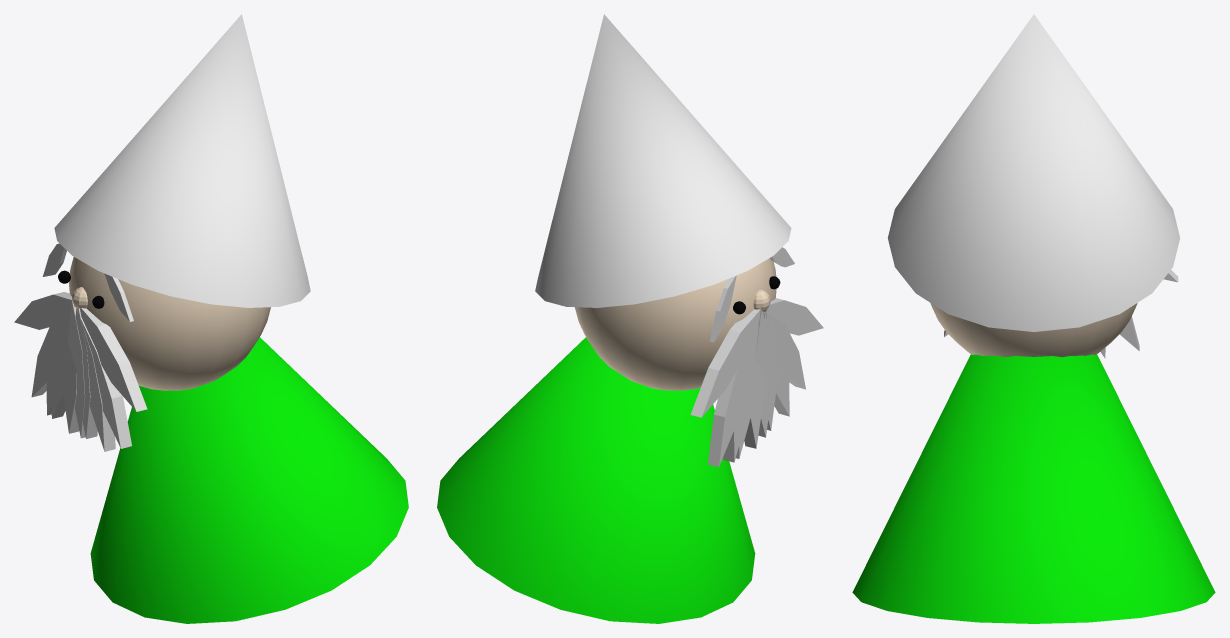
Rendered from greenwizardnpc.fbx.
The picture shows the model from 3 angles, left to right: view 1: azimuth 30°, elevation 25°; view 2: azimuth 150°, elevation 25°; view 3: azimuth 270°, elevation 25°; orthographic projection. The views are drawn at different scales.
Visible parts, largest first — view 1: pCone1, pCone2, pSphere1, pPlane1, pasted__pasted__pasted__pasted__pasted__pasted__pPlane1, pasted__pasted__pPlane1, pasted__pPlane1, pasted__pasted__pasted__pasted__pasted__pPlane2, pasted__pasted__pasted__pasted__pPlane2, pasted__pasted__pasted__pPlane1, pasted__pasted__pasted__pasted__pPlane1, pasted__pasted__pasted__pasted__pasted__pPlane1 (+1 smaller); view 2: pCone1, pCone2, pSphere1, pasted__pPlane1, pasted__pasted__pPlane1, pasted__pasted__pasted__pasted__pPlane2, pPlane1, pasted__pasted__pasted__pasted__pasted__pPlane2, pasted__pasted__pasted__pPlane1, pasted__pasted__pasted__pasted__pPlane1, pasted__pasted__pasted__pasted__pasted__pasted__pPlane1, pasted__pasted__pasted__pPlane2 (+2 smaller); view 3: pCone1, pCone2, pSphere1.
Boxes of the visible parts, x1=… form: pCone1: x1=90, y1=337, x2=408, y2=623; pCone2: x1=54, y1=14, x2=310, y2=307; pSphere1: x1=69, y1=257, x2=270, y2=390; pPlane1: x1=80, y1=308, x2=147, y2=411; pasted__pasted__pasted__pasted__pasted__pasted__pPlane1: x1=76, y1=308, x2=131, y2=448; pasted__pasted__pPlane1: x1=31, y1=308, x2=68, y2=397; pasted__pPlane1: x1=14, y1=292, x2=74, y2=329; pasted__pasted__pasted__pasted__pasted__pPlane2: x1=76, y1=308, x2=115, y2=451; pasted__pasted__pasted__pasted__pPlane2: x1=68, y1=301, x2=85, y2=438; pasted__pasted__pasted__pPlane1: x1=51, y1=304, x2=71, y2=418; pasted__pasted__pasted__pasted__pPlane1: x1=62, y1=330, x2=79, y2=433; pasted__pasted__pasted__pasted__pasted__pPlane1: x1=75, y1=308, x2=97, y2=438; pCone1: x1=437, y1=337, x2=755, y2=623; pCone2: x1=535, y1=14, x2=791, y2=307; pSphere1: x1=575, y1=258, x2=776, y2=390; pasted__pPlane1: x1=690, y1=309, x2=760, y2=417; pasted__pasted__pPlane1: x1=708, y1=324, x2=755, y2=466; pasted__pasted__pasted__pasted__pPlane2: x1=755, y1=309, x2=772, y2=437; pPlane1: x1=758, y1=298, x2=823, y2=335; pasted__pasted__pasted__pasted__pasted__pPlane2: x1=766, y1=310, x2=789, y2=416; pasted__pasted__pasted__pPlane1: x1=736, y1=317, x2=758, y2=458; pasted__pasted__pasted__pasted__pPlane1: x1=744, y1=321, x2=763, y2=448; pasted__pasted__pasted__pasted__pasted__pasted__pPlane1: x1=765, y1=311, x2=805, y2=389; pasted__pasted__pasted__pPlane2: x1=723, y1=321, x2=754, y2=462; pCone1: x1=852, y1=354, x2=1215, y2=623; pCone2: x1=888, y1=14, x2=1179, y2=331; pSphere1: x1=930, y1=303, x2=1137, y2=357.
Size of the model in its own units: 2.22 by 3.75 by 2.
